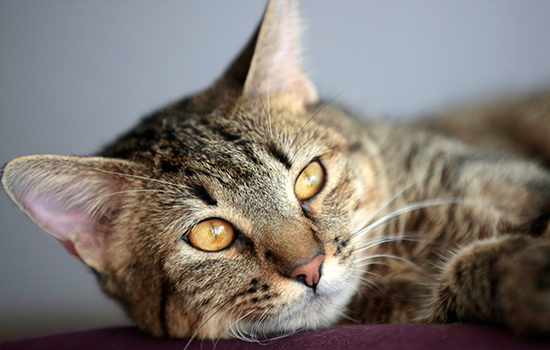cat: (10, 29, 547, 346)
